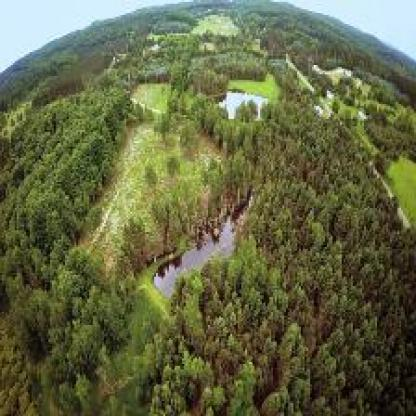other: (130, 222, 283, 294), (206, 78, 331, 124)
